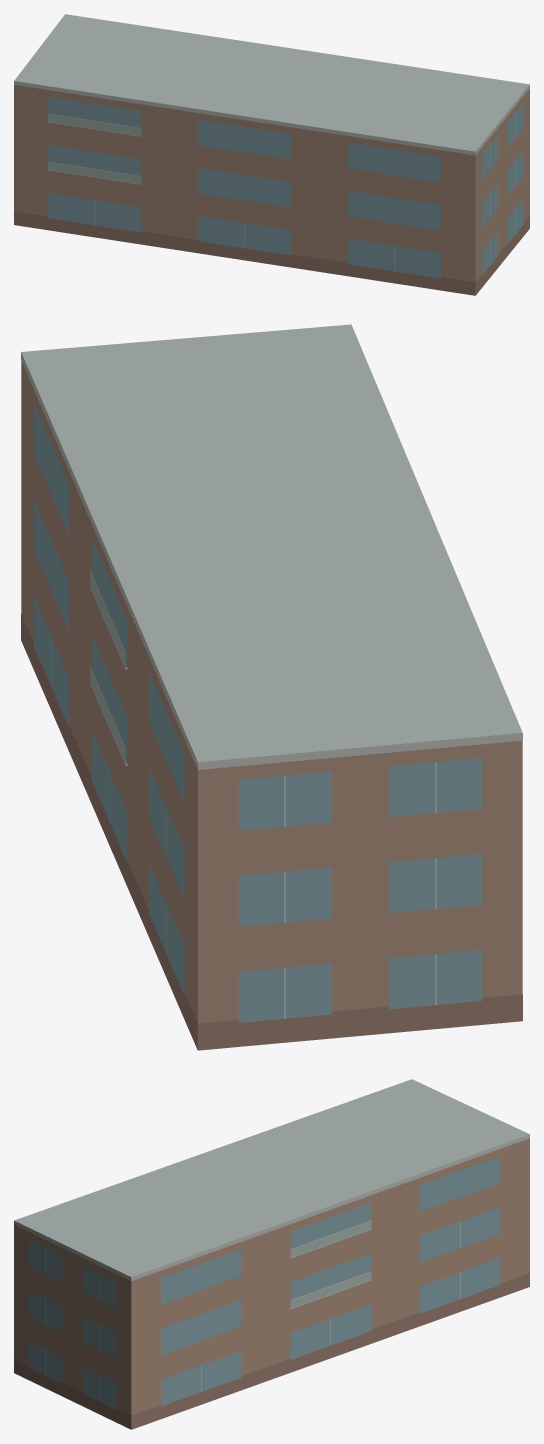
Rendered from survey-upis-32908227.glb.
The picture shows the model from 3 angles, top to bottom: view 1: azimuth 30°, elevation 25°; view 2: azimuth 150°, elevation 25°; view 3: azimuth 270°, elevation 25°; orthographic projection. The views are drawn at different scales.
Parts seen in each view (by area): view 1: survey-upis-32908227.tmp; view 2: survey-upis-32908227.tmp; view 3: survey-upis-32908227.tmp.
Part boxes in pixels (x1=…): survey-upis-32908227.tmp: x1=14, y1=14, x2=529, y2=295; survey-upis-32908227.tmp: x1=21, y1=324, x2=522, y2=1050; survey-upis-32908227.tmp: x1=14, y1=1079, x2=529, y2=1429.
Size of the model in its own units: 25.48 by 9.15 by 28.04.
